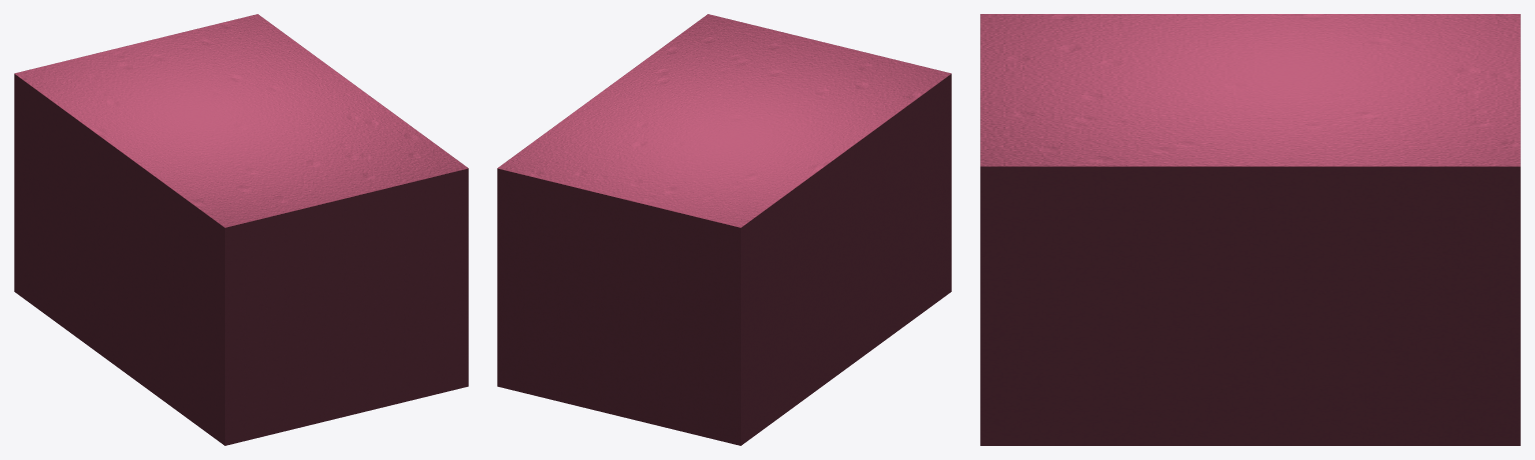
Rendered from Plounge.glb.
3 views of the same model, side by side, from view 1: azimuth 30°, elevation 25°; view 2: azimuth 150°, elevation 25°; view 3: azimuth 270°, elevation 25° (orthographic). The views are drawn at different scales.
Visible parts, largest first — view 1: Cube; view 2: Cube; view 3: Cube.
Boxes of the visible parts, x1=… form: Cube: x1=14, y1=14, x2=468, y2=445; Cube: x1=497, y1=14, x2=951, y2=445; Cube: x1=980, y1=14, x2=1520, y2=445.
Bounding box in the file's own units: 3.24 × 2.77 × 4.86.
Materials: 1 (1 with a texture image).
